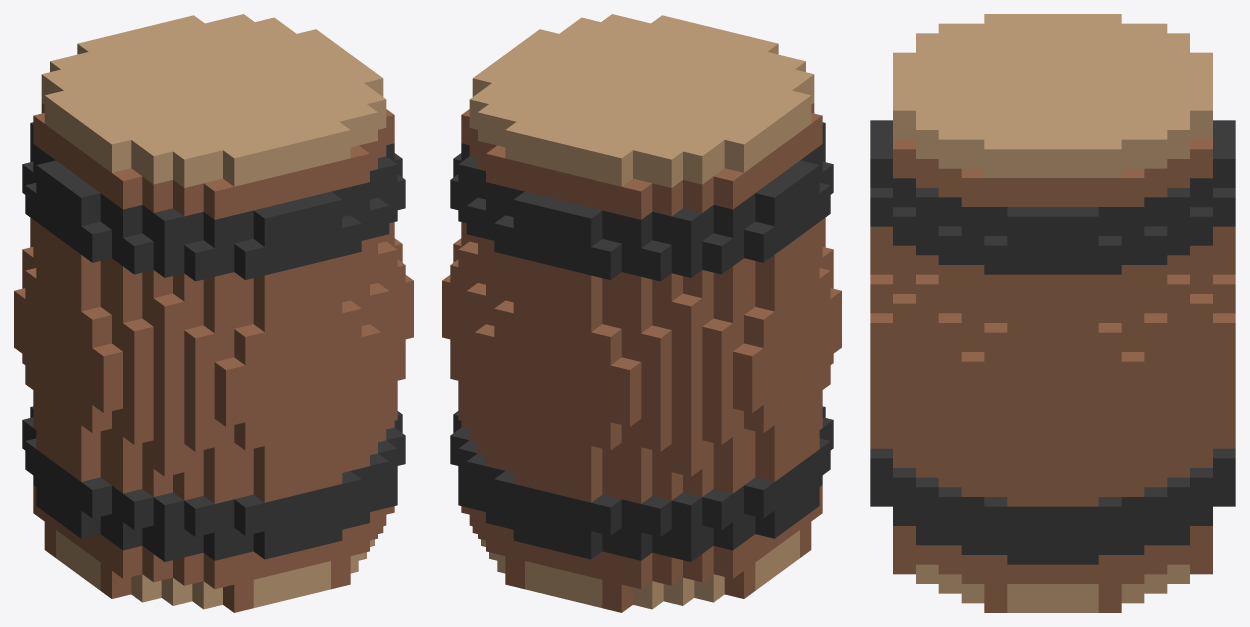
File: ladder_16.glb
3 renders of one model, left to right at view 1: azimuth 30°, elevation 25°; view 2: azimuth 150°, elevation 25°; view 3: azimuth 270°, elevation 25°, orthographic. The views are drawn at different scales.
Parts seen in each view (by area): view 1: barrel; view 2: barrel; view 3: barrel.
Boxes of the visible parts, x1,y1,x2,y2 form: barrel: [14, 14, 413, 612]; barrel: [442, 14, 841, 612]; barrel: [870, 14, 1235, 612].
Size of the model in its own units: 1 by 1.4 by 1.
